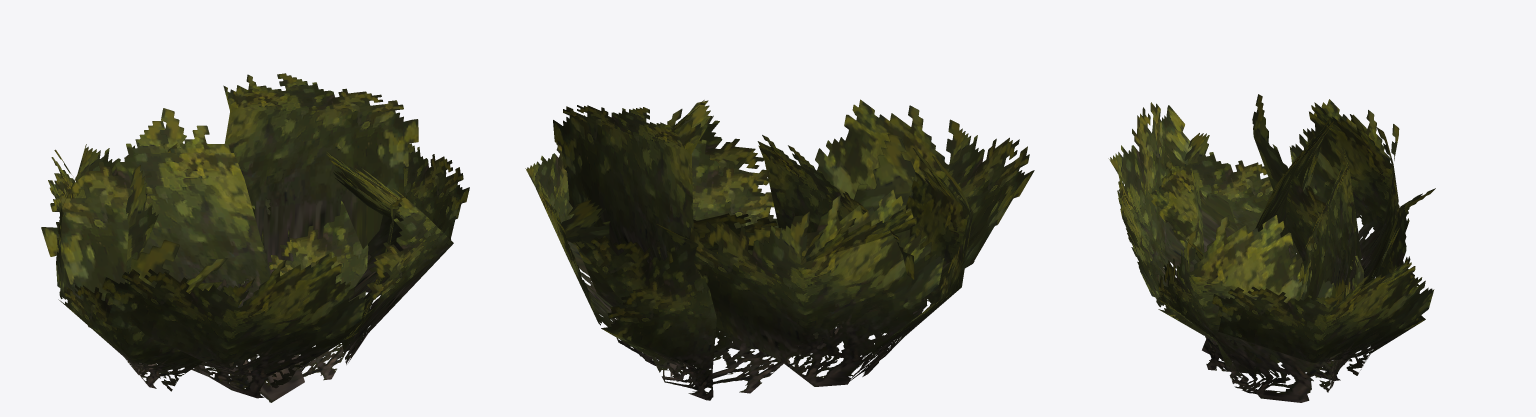
File: town_scrub01.fbx
3 renders of one model, left to right at view 1: azimuth 30°, elevation 25°; view 2: azimuth 150°, elevation 25°; view 3: azimuth 270°, elevation 25°, orthographic. The views are drawn at different scales.
Parts seen in each view (by area): view 1: bush_scrub02; view 2: bush_scrub02; view 3: bush_scrub02.
Part boxes in pixels (x1,y1,x2,y2): bush_scrub02: (41,73,469,402); bush_scrub02: (525,99,1034,400); bush_scrub02: (1108,94,1435,402).
Bounding box in the file's own units: 2.82 × 2.26 × 3.
